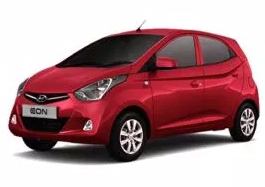car: (5, 17, 261, 172)
